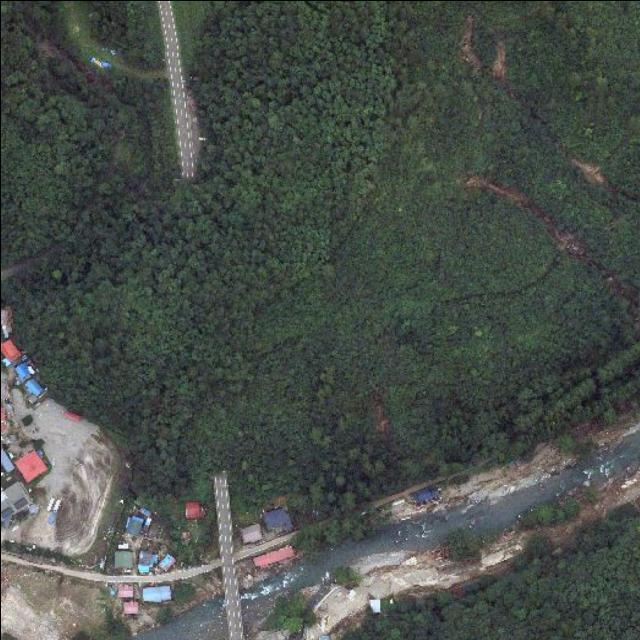landslide: (467, 174, 586, 259), (459, 14, 484, 69), (491, 38, 507, 79), (604, 268, 626, 292)
